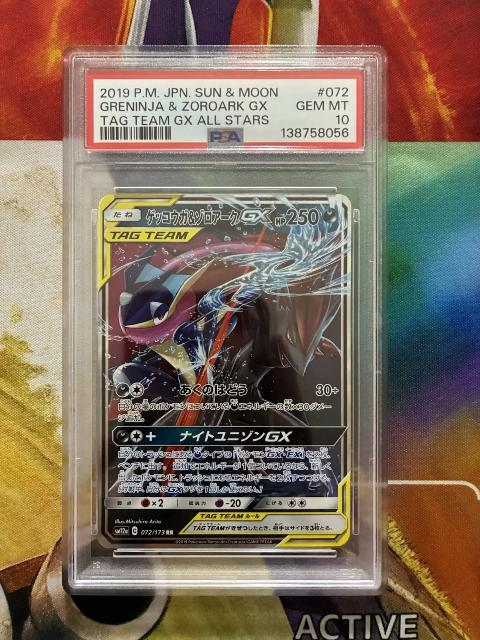Card: (95, 193, 353, 552)
Name: (143, 202, 277, 227)
